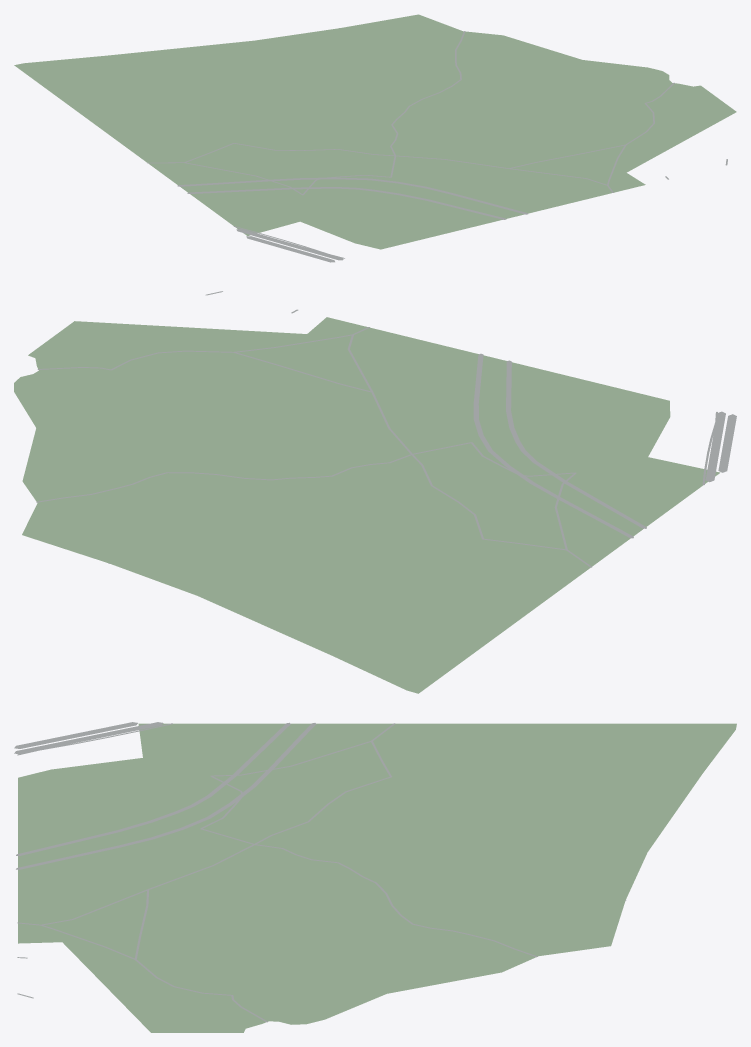
File: 3_5-known-coarse.glb
3 views of the same model, one above another, from view 1: azimuth 30°, elevation 25°; view 2: azimuth 150°, elevation 25°; view 3: azimuth 270°, elevation 25° (orthographic). The views are drawn at different scales.
Bounding box in the file's own units: 1006 × 0.1 × 989.
